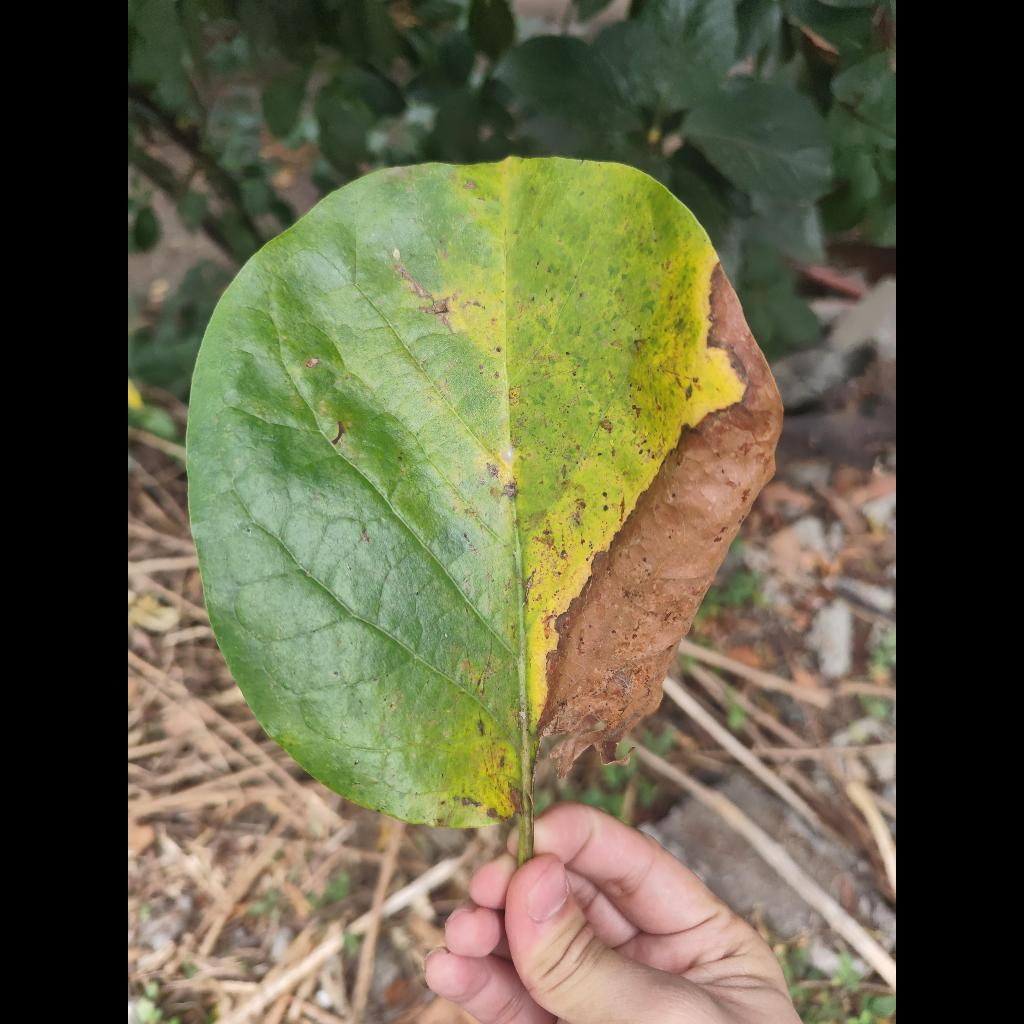deficiencia_nutricional: (186, 158, 782, 827)
